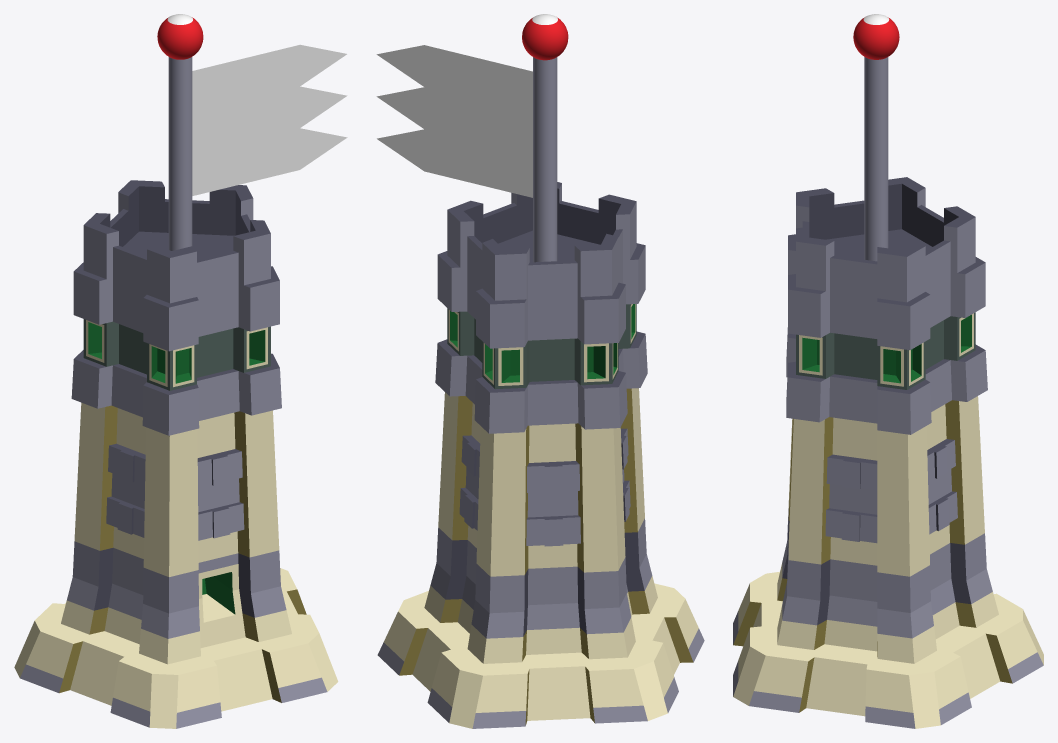
Rendered from Fortaleza.obj.
The picture shows the model from 3 angles, left to right: view 1: azimuth 30°, elevation 25°; view 2: azimuth 150°, elevation 25°; view 3: azimuth 270°, elevation 25°; orthographic projection.
Visible parts, largest first — view 1: Cylinder; view 2: Cylinder; view 3: Cylinder.
Part boxes in pixels (bbox=[...]): Cylinder: bbox=[14, 14, 347, 728]; Cylinder: bbox=[376, 14, 704, 728]; Cylinder: bbox=[733, 14, 1043, 728].
Bounding box in the file's own units: 35.68 × 71 × 31.06.
